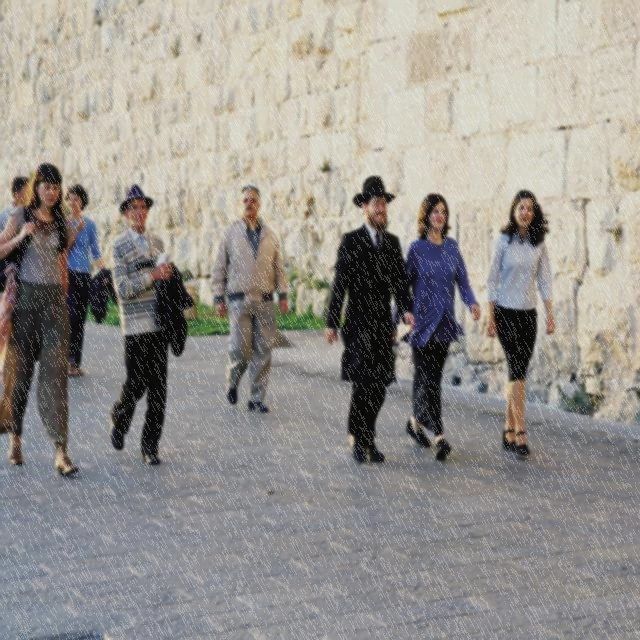pessoa: (322, 174, 418, 464), (385, 192, 485, 462), (0, 160, 81, 480), (106, 182, 196, 468), (483, 186, 558, 458), (209, 184, 291, 416), (64, 182, 110, 378), (0, 176, 30, 232)
